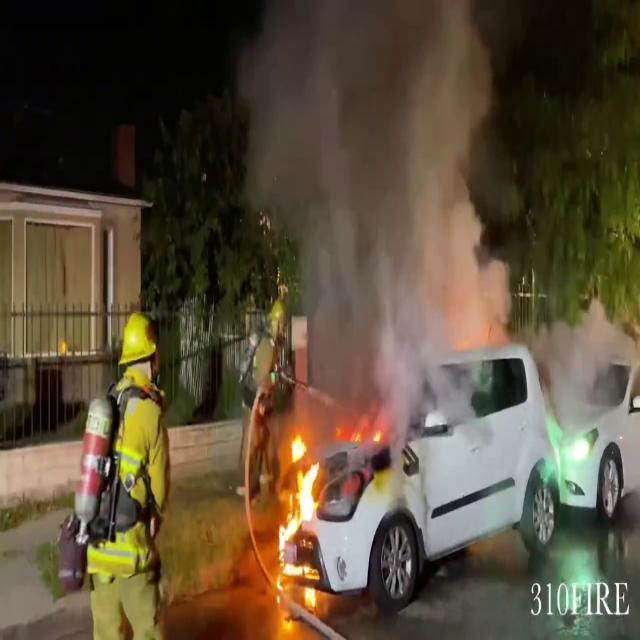Fire: (274, 426, 324, 561), (337, 408, 390, 455)
Smoke: (250, 0, 518, 403), (538, 290, 622, 454)
